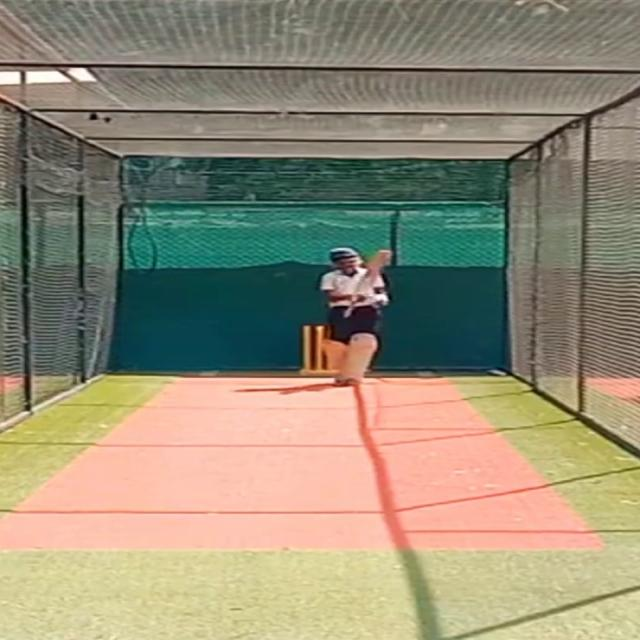stump: (298, 324, 324, 376)
